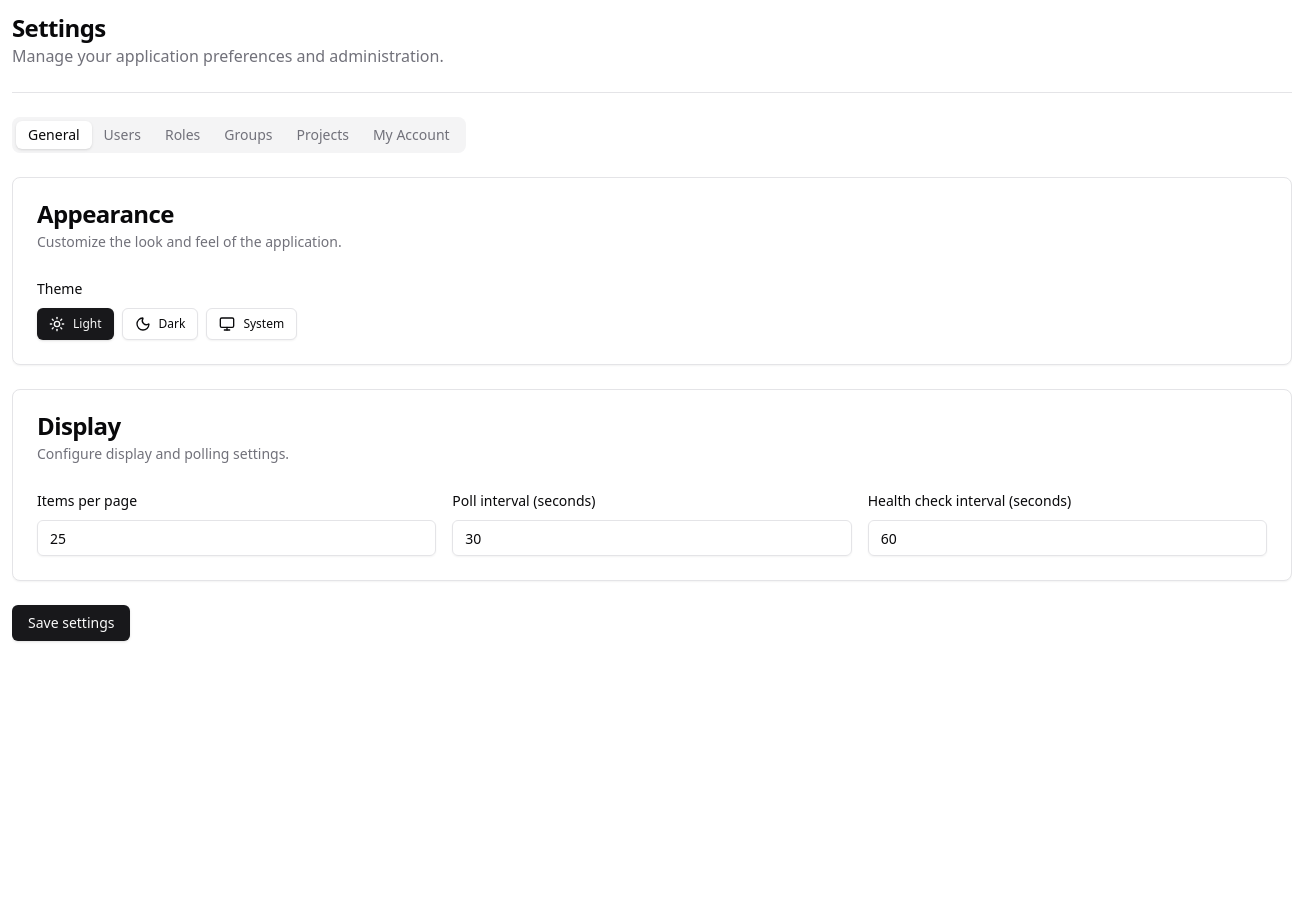
Test: SettingsPage — General tab interactions › shows "Settings saved." message after successful save
This screenshot has width=1292, height=912.
Click the button "Save settings". click: (71, 623)
box: [12, 605, 130, 641]
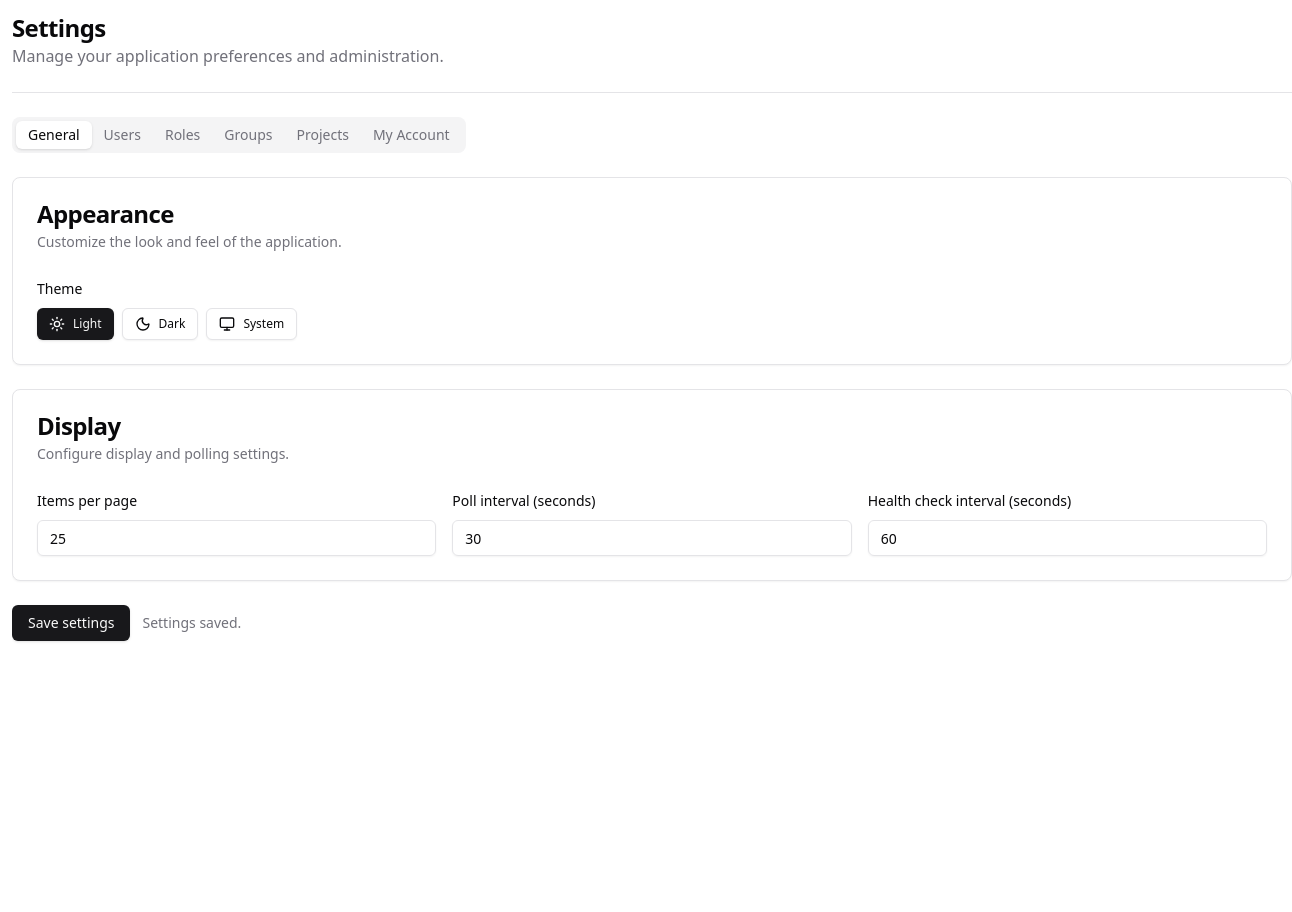
Expected: the text "Settings saved." is shown, [142, 613, 241, 633]
